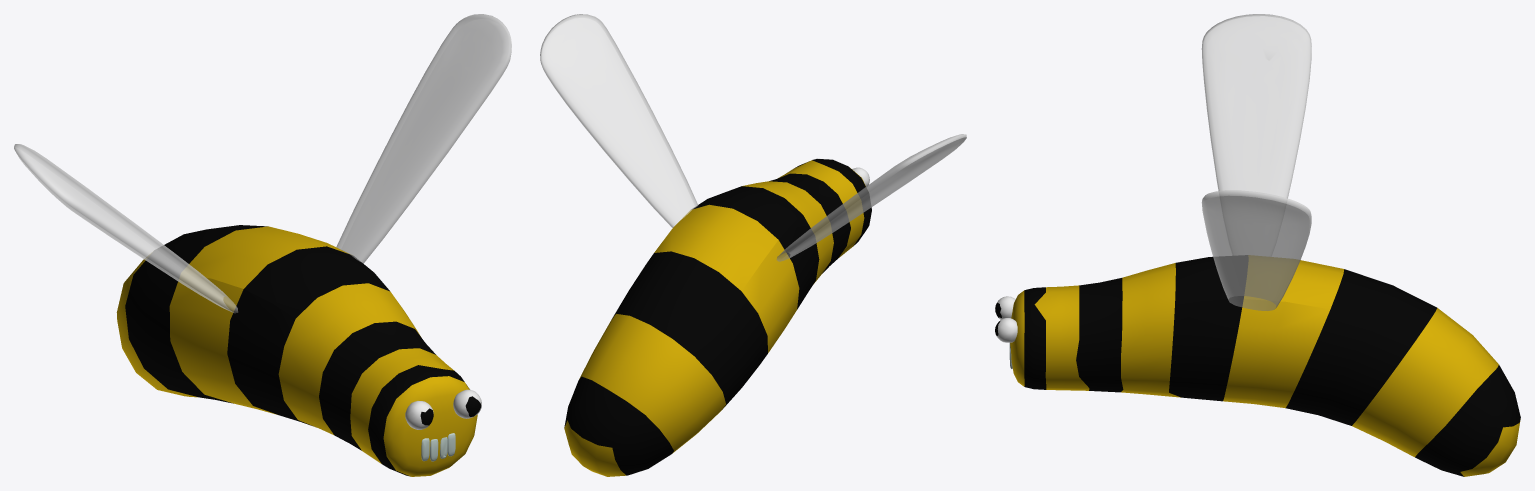
File: biene.fbx
3 renders of one model, left to right at view 1: azimuth 30°, elevation 25°; view 2: azimuth 150°, elevation 25°; view 3: azimuth 270°, elevation 25°, orthographic. The views are drawn at different scales.
Parts seen in each view (by area): view 1: Box003; view 2: Box003; view 3: Box003.
Boxes of the visible parts, bbox=[...] form: Box003: bbox=[14, 14, 511, 476]; Box003: bbox=[540, 14, 966, 476]; Box003: bbox=[995, 14, 1520, 476].
Bounding box in the file's own units: 8.26 × 6.8 × 9.
